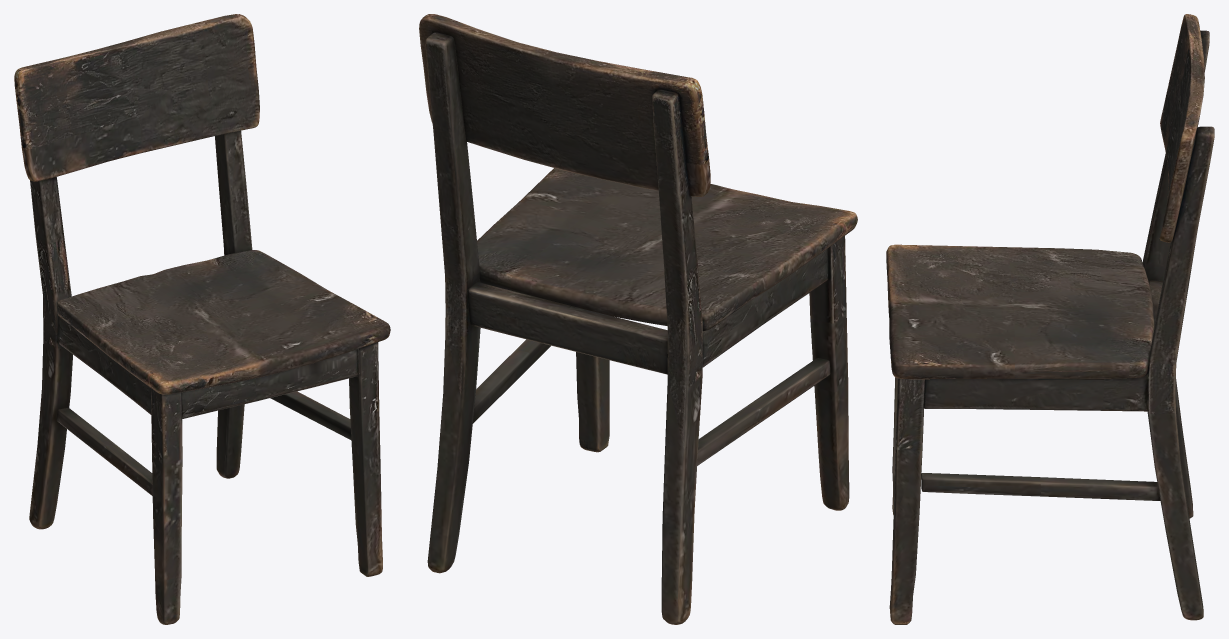
File: prop_chair_wood.glb
3 views of the same model, side by side, from view 1: azimuth 30°, elevation 25°; view 2: azimuth 150°, elevation 25°; view 3: azimuth 270°, elevation 25° (orthographic). The views are drawn at different scales.
Parts seen in each view (by area): view 1: tripo_node_d581b82e-70c1-444d-b6f1-eff0805e0775; view 2: tripo_node_d581b82e-70c1-444d-b6f1-eff0805e0775; view 3: tripo_node_d581b82e-70c1-444d-b6f1-eff0805e0775.
Boxes of the visible parts, <box> form: tripo_node_d581b82e-70c1-444d-b6f1-eff0805e0775: <box>14,14,390,624</box>; tripo_node_d581b82e-70c1-444d-b6f1-eff0805e0775: <box>419,14,857,624</box>; tripo_node_d581b82e-70c1-444d-b6f1-eff0805e0775: <box>886,14,1214,624</box>.
Size of the model in its own units: 0.5039 by 0.92 by 0.5533.
1 material, 1 textured.
